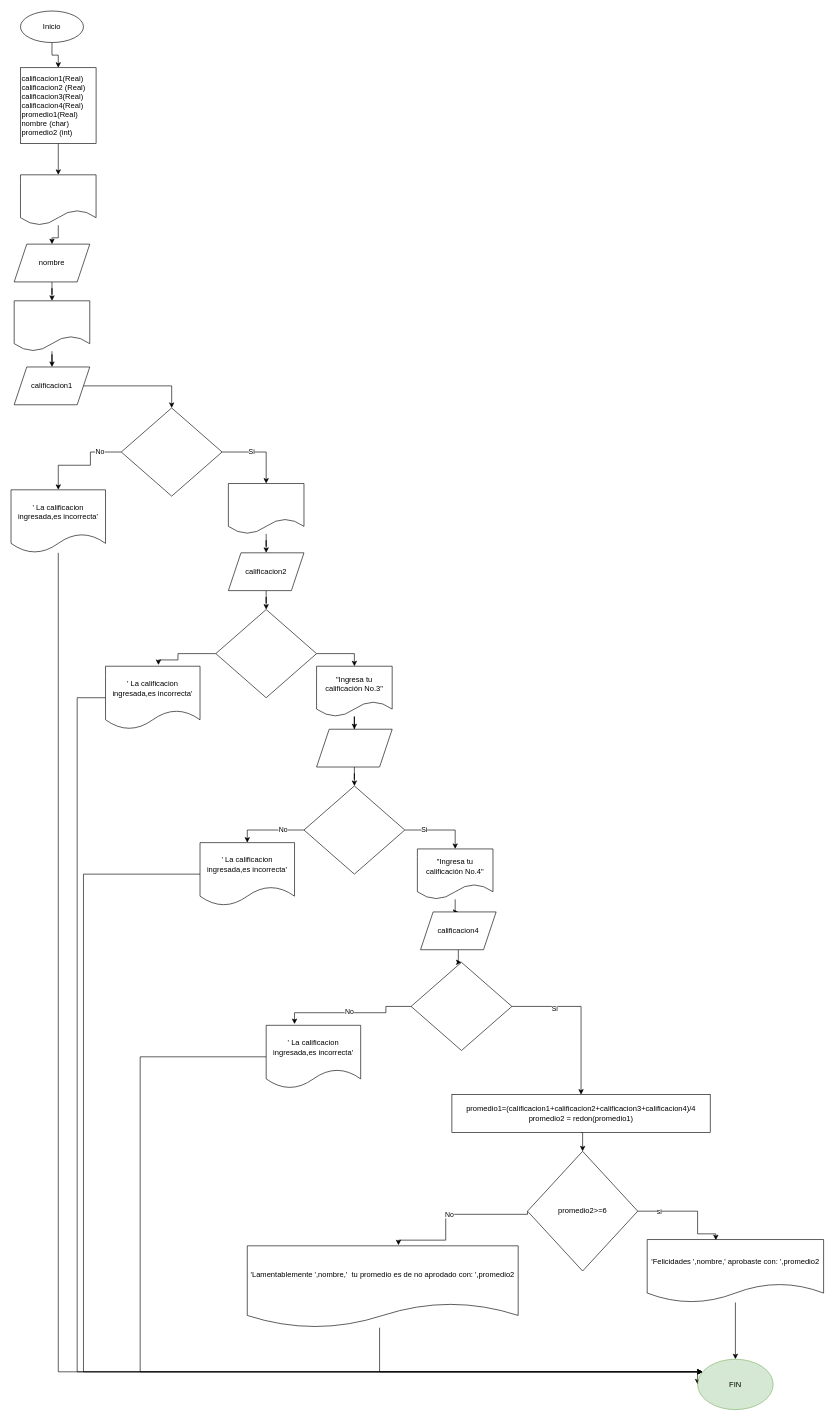
This 835x1421 diagram has some shape labels left out. The box of each missing label's shape, as (x1, y1, x2, y2) in pixels:
"Ingresa tu calificación No.1": (14, 300, 90, 351)
"Ingresa tu calificación No.2": (228, 483, 304, 534)
'Ingresa el nombre del alumno': (20, 174, 96, 225)
calificacion1>=0 Y calificacion1<=10: (121, 407, 222, 496)
calificacion2>=0 Y calificacion2<=10: (215, 609, 317, 698)
calificacion3: (316, 729, 392, 767)
calificacion3>=0 Y calificacion3<=10: (303, 785, 405, 874)
calificacion4>=0 Y calificacion4<=10: (410, 962, 512, 1051)
